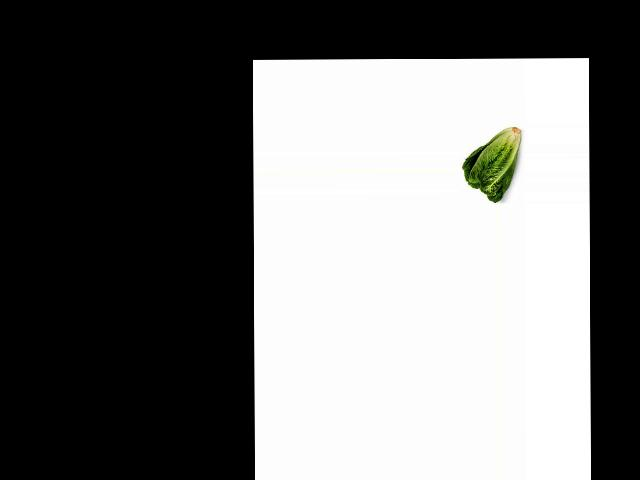lettuce: (463, 121, 523, 202)
